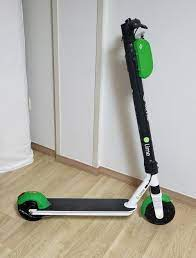kick_board: (18, 17, 175, 225)
kick_body: (49, 199, 130, 216)
kick_handler: (122, 17, 148, 33)
kick_neck: (123, 41, 158, 182)
kick_wheel: (140, 196, 175, 225), (17, 192, 43, 220)
